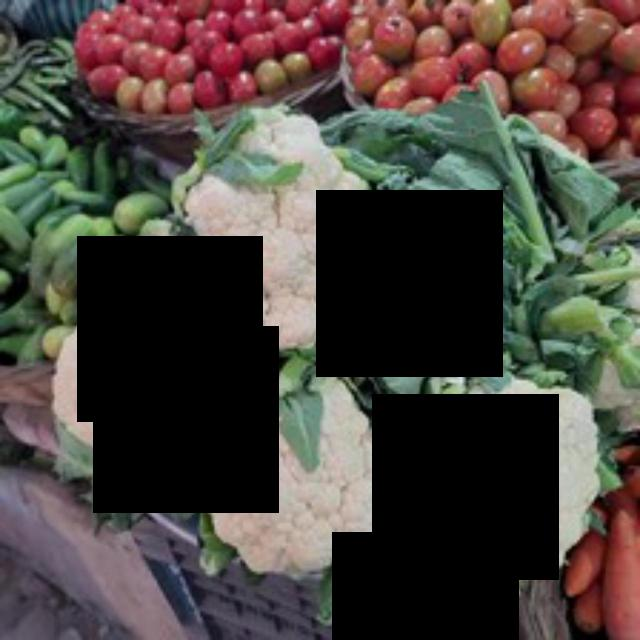cauliflower: (178, 101, 403, 363), (197, 366, 410, 579), (447, 347, 606, 577), (48, 228, 194, 468)
